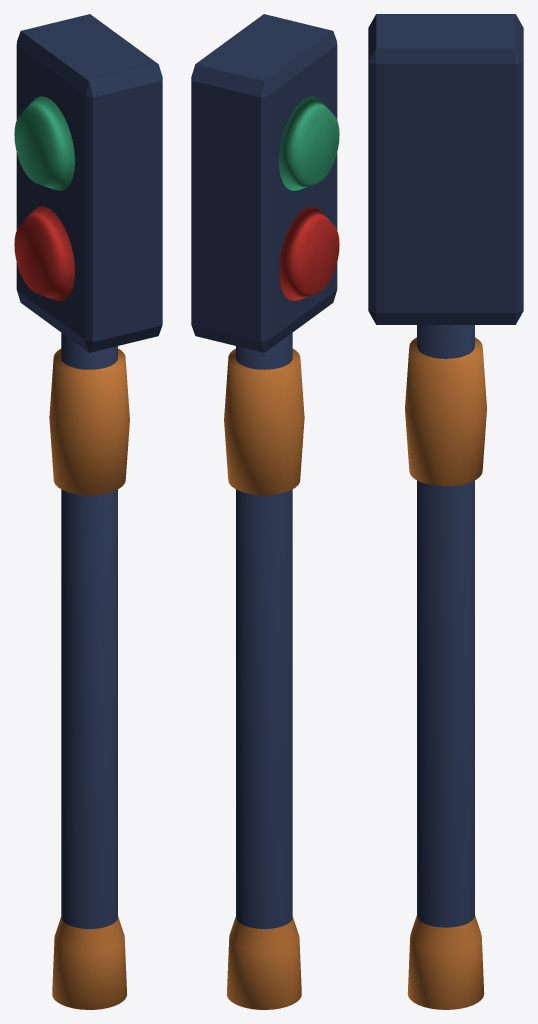
The model's file is TrafficLightModel03.fbx.
3 views of the same model, side by side, from view 1: azimuth 30°, elevation 25°; view 2: azimuth 150°, elevation 25°; view 3: azimuth 270°, elevation 25° (orthographic).
Visible parts, largest first — view 1: TrafficLight03; view 2: TrafficLight03; view 3: TrafficLight03.
Boxes of the visible parts, left/top/right/bottom form: TrafficLight03: left=14, top=14, right=162, bottom=1009; TrafficLight03: left=191, top=14, right=339, bottom=1009; TrafficLight03: left=368, top=14, right=523, bottom=1009.
Size of the model in its own units: 27.77 by 263 by 38.46.
